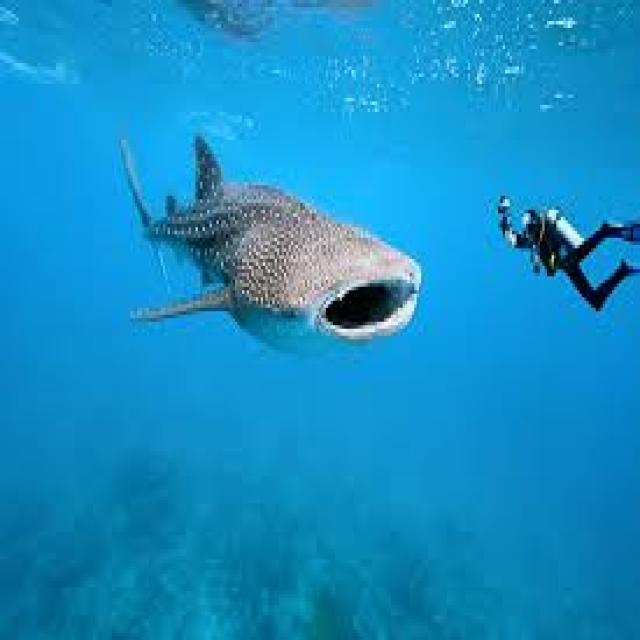Whale Shark -Endangered-: (118, 134, 423, 348)
